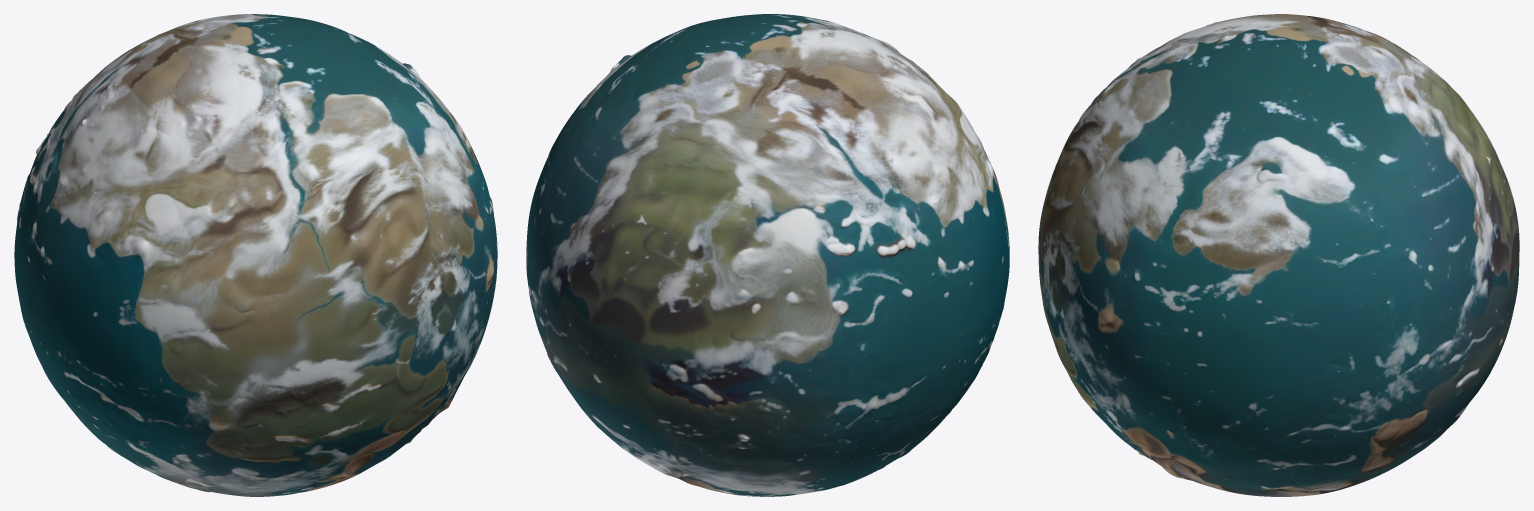
Rendered from Reach.glb.
3 renders of one model, left to right at view 1: azimuth 30°, elevation 25°; view 2: azimuth 150°, elevation 25°; view 3: azimuth 270°, elevation 25°, orthographic.
Bounding box in the file's own units: 2 × 2 × 2.
Materials: 1 (1 with a texture image).
